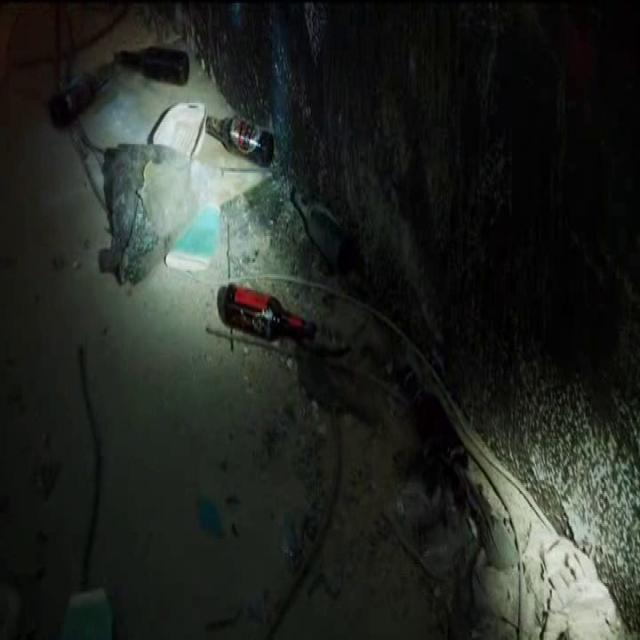Bottle: (207, 278, 327, 373), (195, 109, 290, 185), (47, 52, 132, 113), (117, 39, 194, 101)
